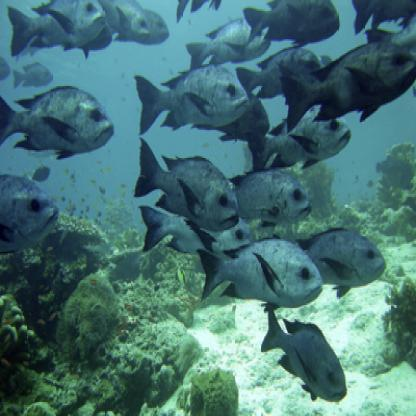snapper: (278, 35, 416, 137), (132, 133, 241, 233), (258, 298, 349, 406), (1, 84, 122, 164), (201, 234, 328, 309), (133, 62, 252, 137), (5, 1, 108, 58)
